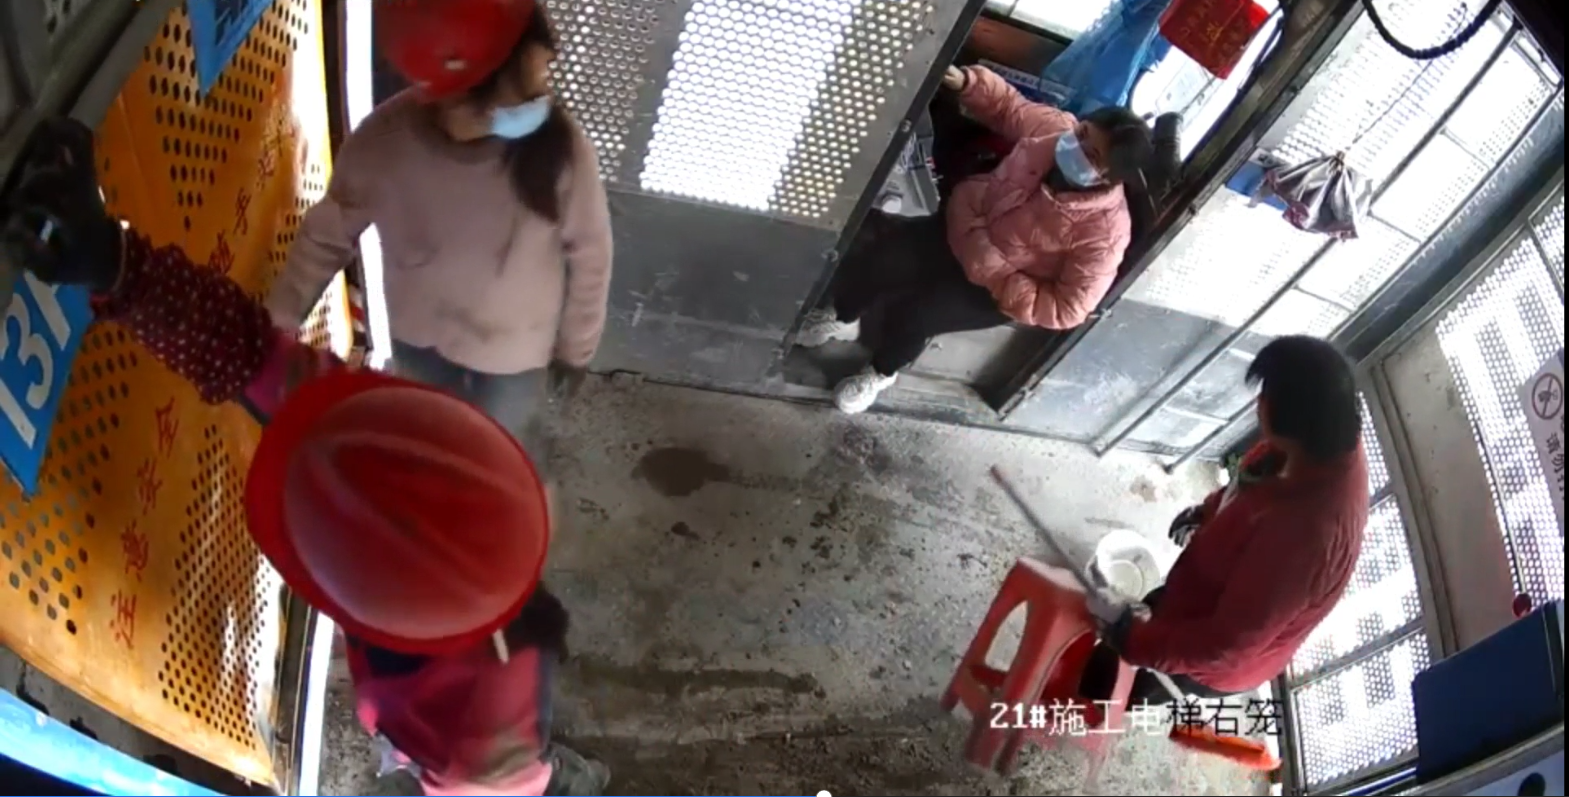person: (1, 114, 572, 795), (250, 1, 616, 445), (795, 59, 1150, 416), (1077, 337, 1371, 712)
